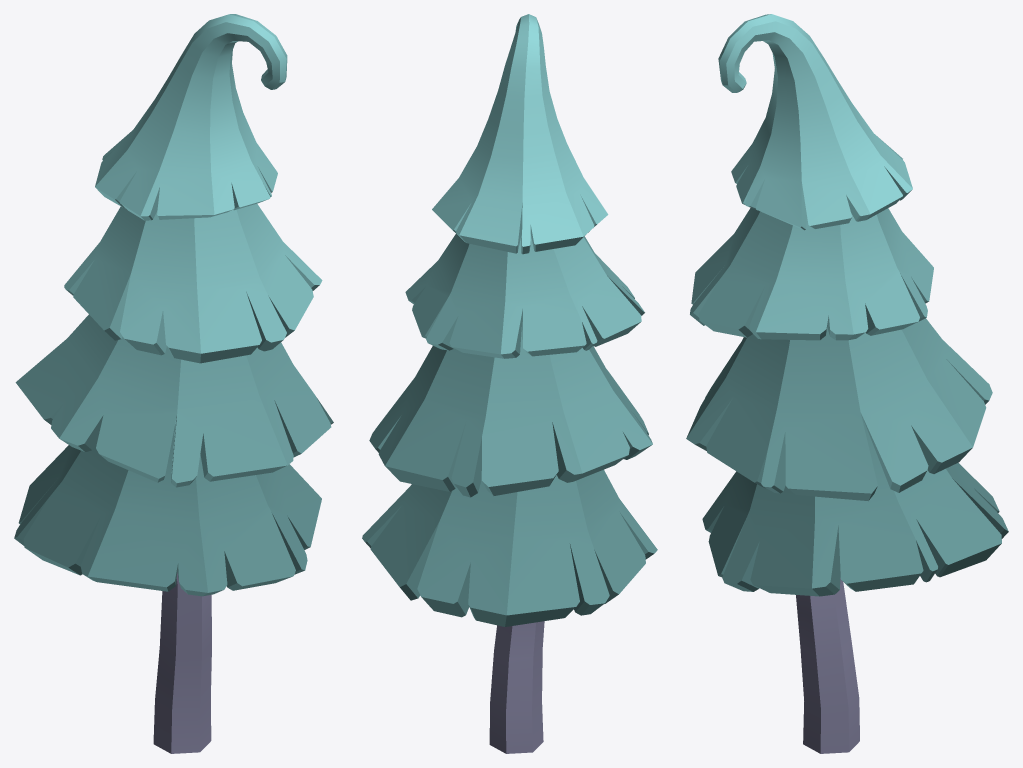
File: Mystic_Tree_M_A2.fbx
3 views of the same model, side by side, from view 1: azimuth 30°, elevation 25°; view 2: azimuth 150°, elevation 25°; view 3: azimuth 270°, elevation 25° (orthographic). The views are drawn at different scales.
Parts seen in each view (by area): view 1: Mystic_Tree_M_A2; view 2: Mystic_Tree_M_A2; view 3: Mystic_Tree_M_A2.
Boxes of the visible parts, bbox=[...] form: Mystic_Tree_M_A2: bbox=[14, 14, 333, 753]; Mystic_Tree_M_A2: bbox=[362, 14, 657, 753]; Mystic_Tree_M_A2: bbox=[686, 14, 1008, 753].
Bounding box in the file's own units: 390 × 1046 × 415.
